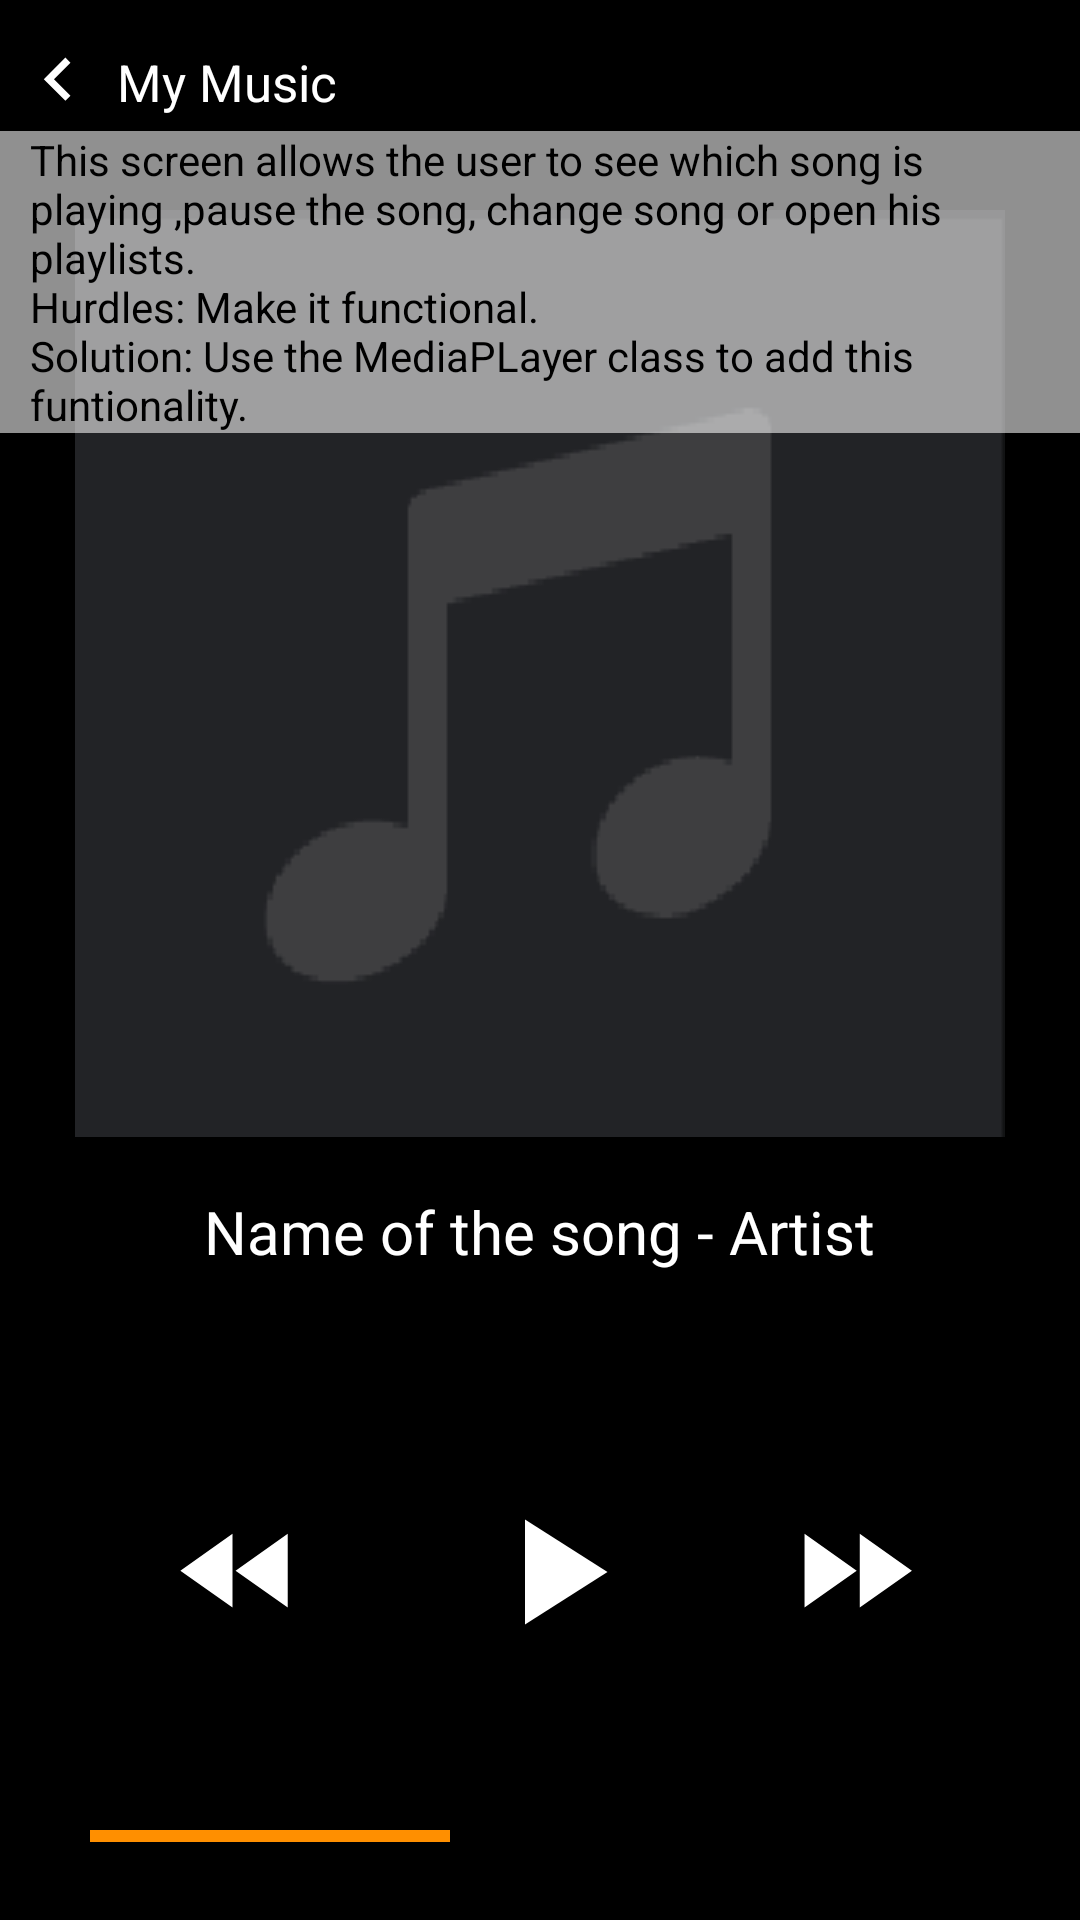

Point at icon controls on the screen. Image size 1080×1920, points as point (x, y).
fast forward: point (858, 1571)
fast rewind: point (234, 1571)
left arrow: point (57, 79)
play arrow: point (566, 1572)
